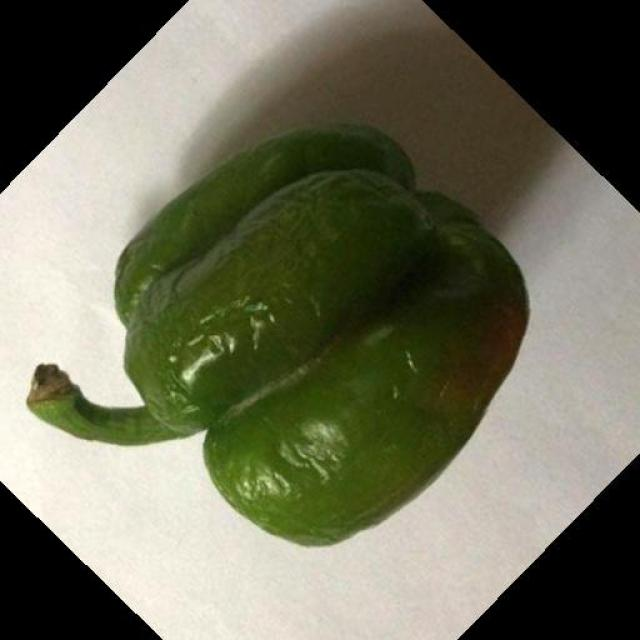Stale_Capsicum: (107, 111, 523, 536)
